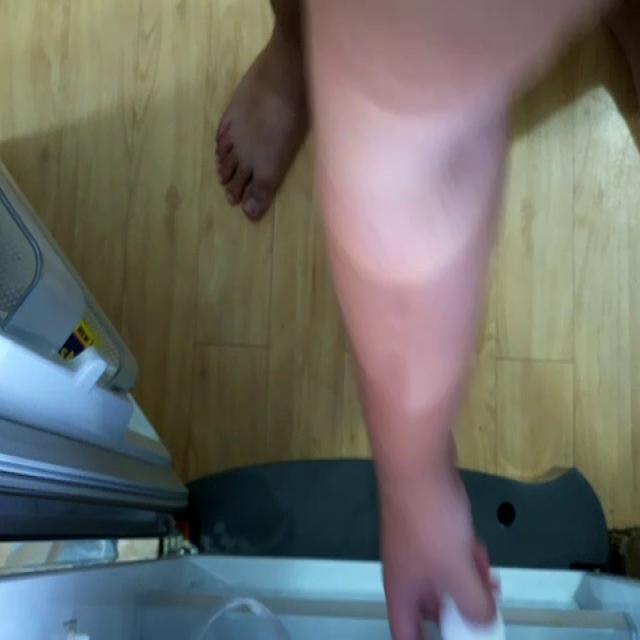egg: (440, 588, 503, 640)
